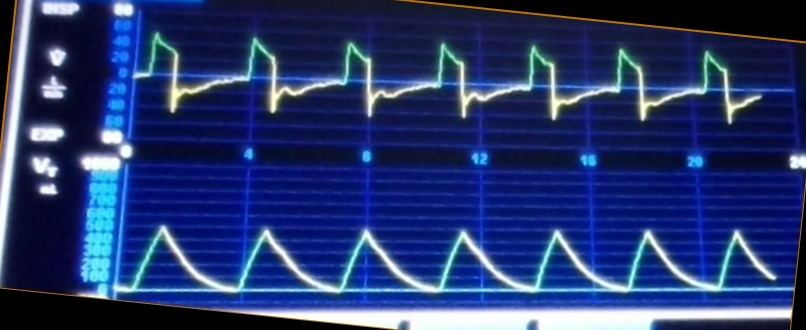Premature_cycling Flow: (138, 30, 762, 132)
Premature_cycling Volume: (124, 216, 777, 301)
